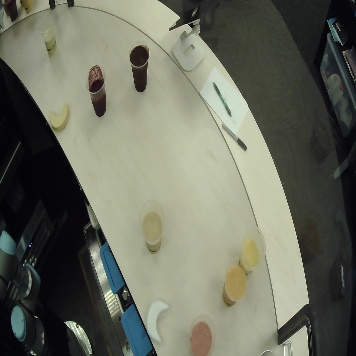full_cup: (81, 63, 111, 119), (124, 41, 154, 97), (140, 197, 167, 255), (238, 227, 264, 275), (187, 312, 214, 356), (222, 263, 248, 305), (37, 18, 59, 60), (2, 1, 19, 21), (19, 1, 33, 15)
puck: (145, 296, 169, 342), (49, 105, 72, 132)
